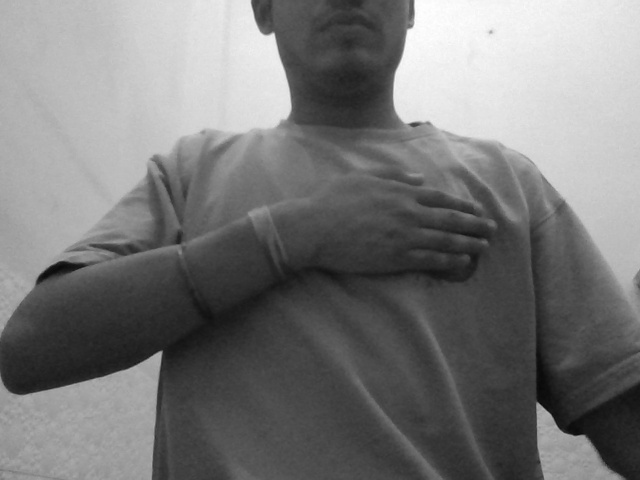Sorry: (234, 154, 541, 324)
